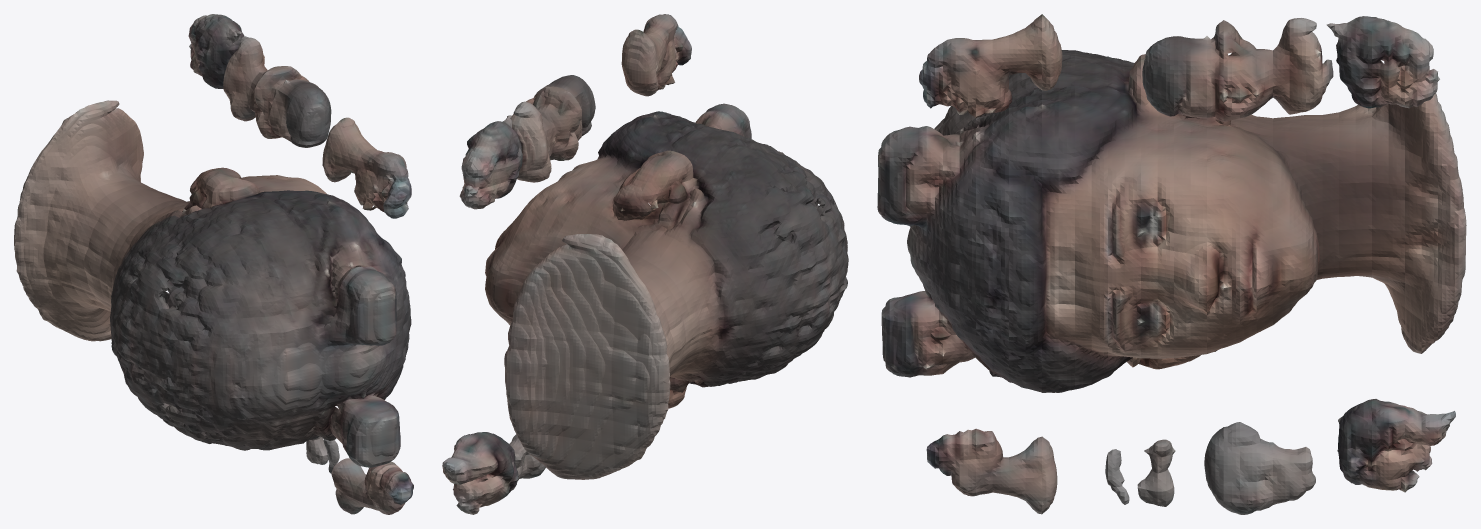
3 renders of one model, left to right at view 1: azimuth 30°, elevation 25°; view 2: azimuth 150°, elevation 25°; view 3: azimuth 270°, elevation 25°, orthographic. The views are drawn at different scales.
Visible parts, largest first — view 1: world; view 2: world; view 3: world.
Part boxes in pixels (<box>): world: <box>14,14,413,514</box>; world: <box>442,14,848,514</box>; world: <box>877,14,1466,514</box>.
Size of the model in its own units: 0.6577 by 0.9014 by 0.9708.
